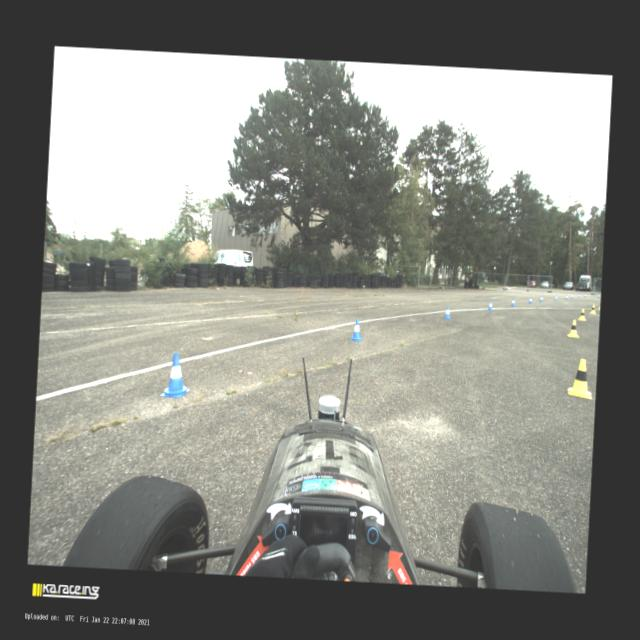blue_cone: (160, 352, 192, 398), (350, 318, 364, 342), (444, 306, 452, 319), (488, 301, 493, 311), (511, 298, 515, 306), (528, 297, 532, 304), (554, 295, 558, 301), (540, 296, 543, 302), (565, 294, 568, 300), (571, 294, 574, 298), (597, 294, 600, 298), (578, 294, 580, 298), (584, 294, 586, 298)
yellow_cone: (568, 358, 594, 399), (566, 320, 580, 338), (578, 308, 586, 320), (590, 304, 596, 314), (598, 302, 600, 310)
